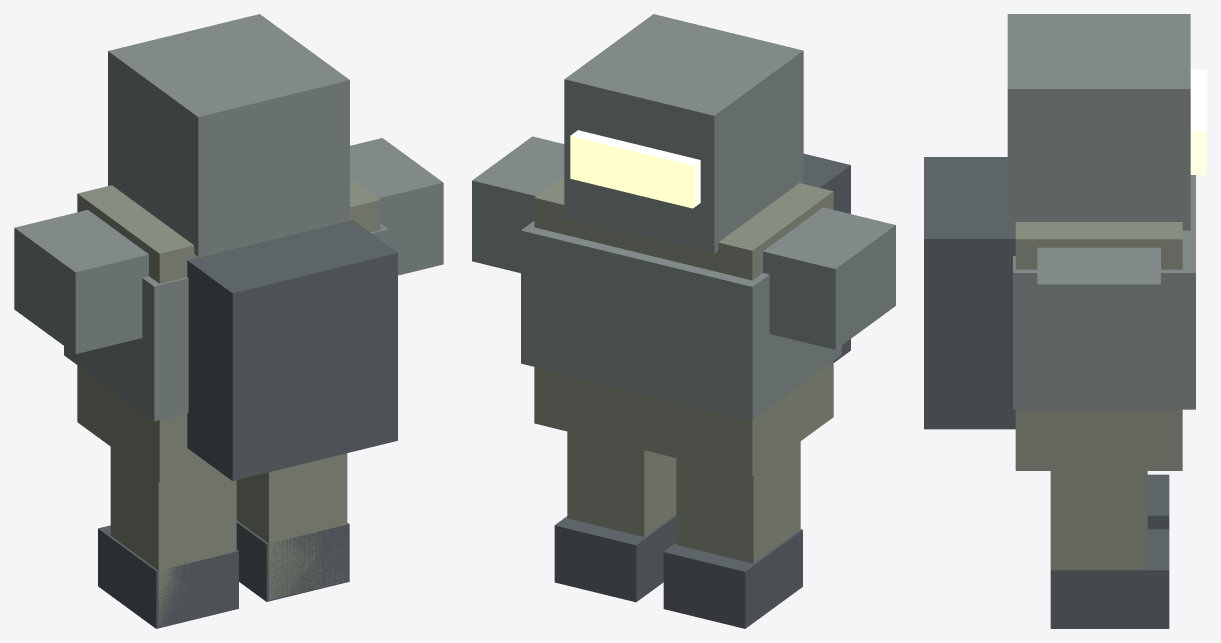
File: operator.glb
3 views of the same model, side by side, from view 1: azimuth 30°, elevation 25°; view 2: azimuth 150°, elevation 25°; view 3: azimuth 270°, elevation 25° (orthographic). The views are drawn at different scales.
Visible parts, largest first — view 1: Pack, Helmet, PauldronL, Torso, LegL, LegR, ChestRig, BootL, PauldronR, BootR; view 2: Helmet, ChestRig, Torso, PauldronL, LegL, LegR, BootL, PauldronR, BootR, Visor, Pack; view 3: Helmet, Pack, Torso, PauldronR, ChestRig, LegR, BootR, Visor, BootL.
Part boxes in pixels (x1,y1,x2,y2): Pack: [187, 220, 397, 480]; Helmet: [108, 14, 349, 256]; PauldronL: [14, 210, 148, 354]; Torso: [77, 178, 380, 482]; LegL: [110, 447, 236, 626]; LegR: [236, 453, 347, 600]; ChestRig: [64, 224, 388, 421]; BootL: [98, 525, 238, 628]; PauldronR: [350, 138, 443, 275]; BootR: [236, 520, 349, 601]; Helmet: [564, 14, 803, 253]; ChestRig: [521, 221, 841, 419]; Torso: [534, 176, 833, 476]; PauldronL: [763, 207, 895, 349]; LegL: [676, 441, 800, 563]; LegR: [567, 431, 676, 536]; BootL: [663, 529, 802, 628]; PauldronR: [472, 136, 564, 273]; BootR: [554, 514, 676, 602]; Visor: [570, 130, 700, 208]; Pack: [803, 153, 850, 362]; Helmet: [1007, 14, 1190, 230]; Pack: [924, 157, 1015, 429]; Torso: [1015, 222, 1182, 470]; PauldronR: [1037, 247, 1160, 366]; ChestRig: [1013, 175, 1195, 409]; LegR: [1050, 471, 1147, 569]; BootR: [1050, 529, 1169, 628]; Visor: [1190, 69, 1206, 174]; BootL: [1147, 474, 1169, 529].
Bounding box in the file's own units: 1.6 × 2.17 × 1.05.
